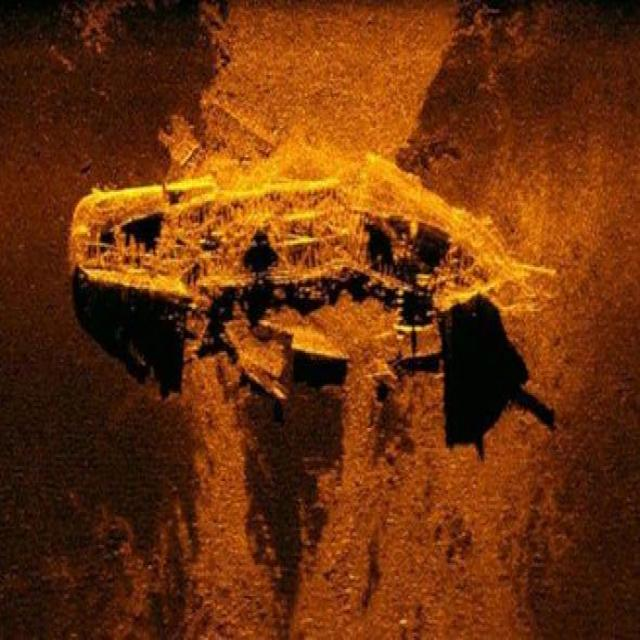ship: (66, 156, 537, 436)
